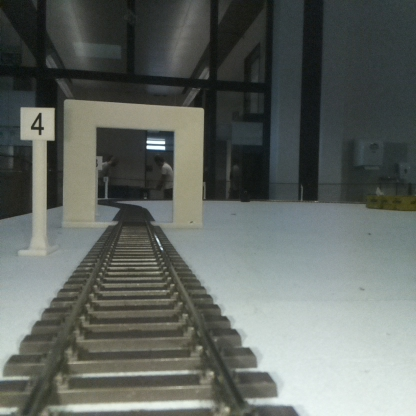white-info-4: (20, 107, 54, 254)
